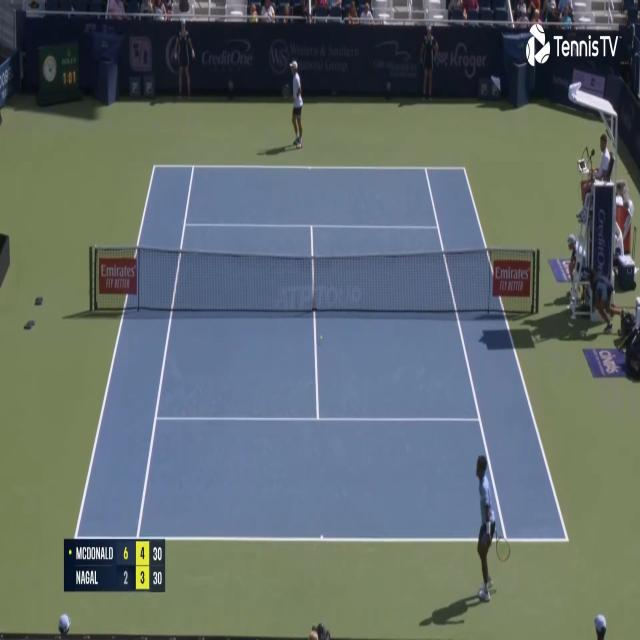tennis-player: (472, 451, 512, 607), (284, 57, 305, 150)
